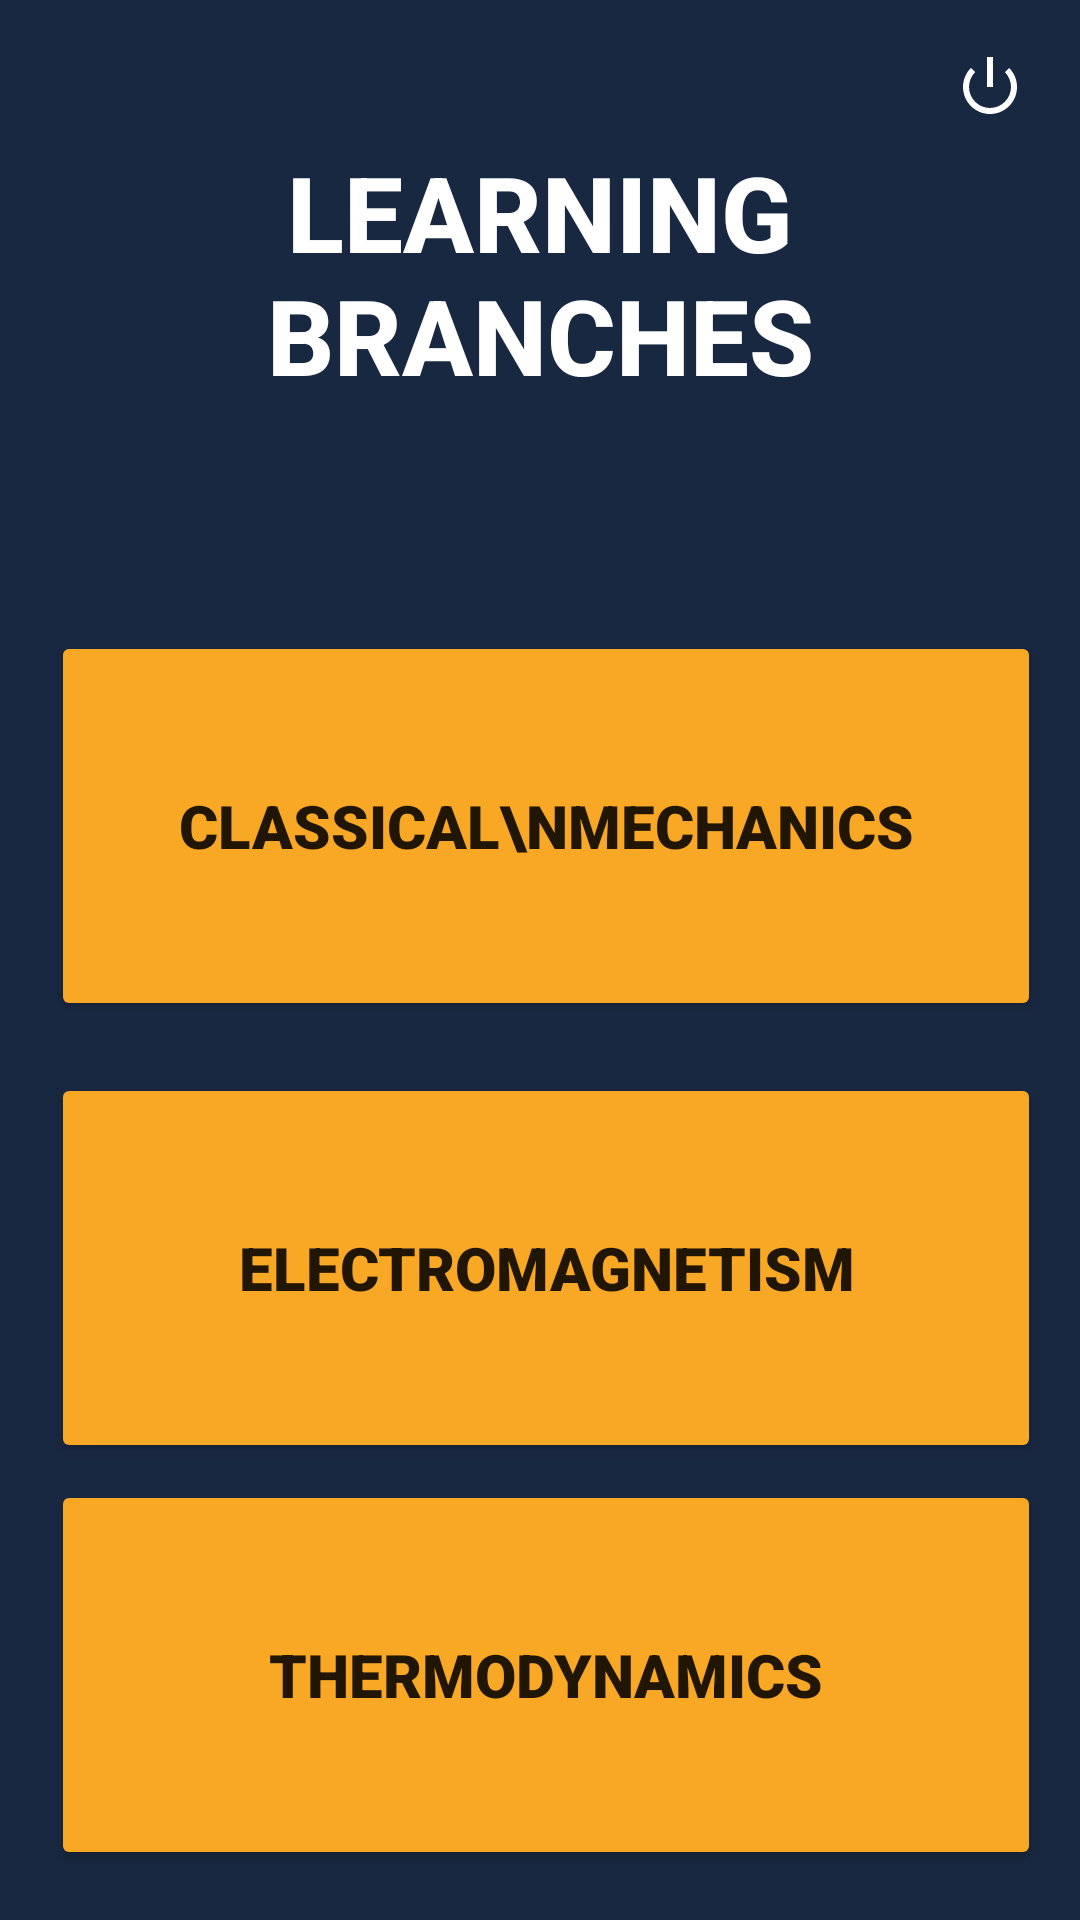

Where icons sit on this 1080px x 1920px app screen, as (x1, y1, x2, y2):
lock power off: (963, 57, 1017, 114)
